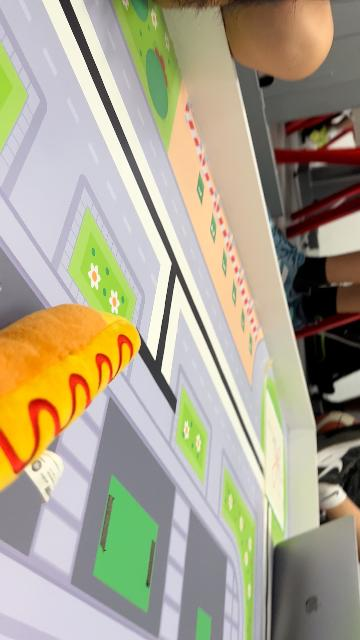hotdog: (2, 303, 142, 493)
